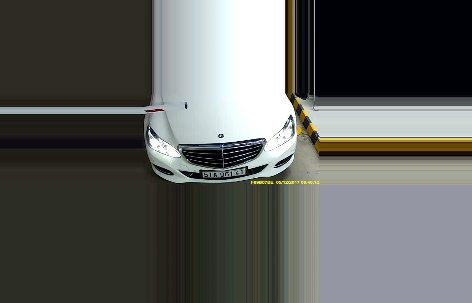plate: (197, 166, 249, 178)
